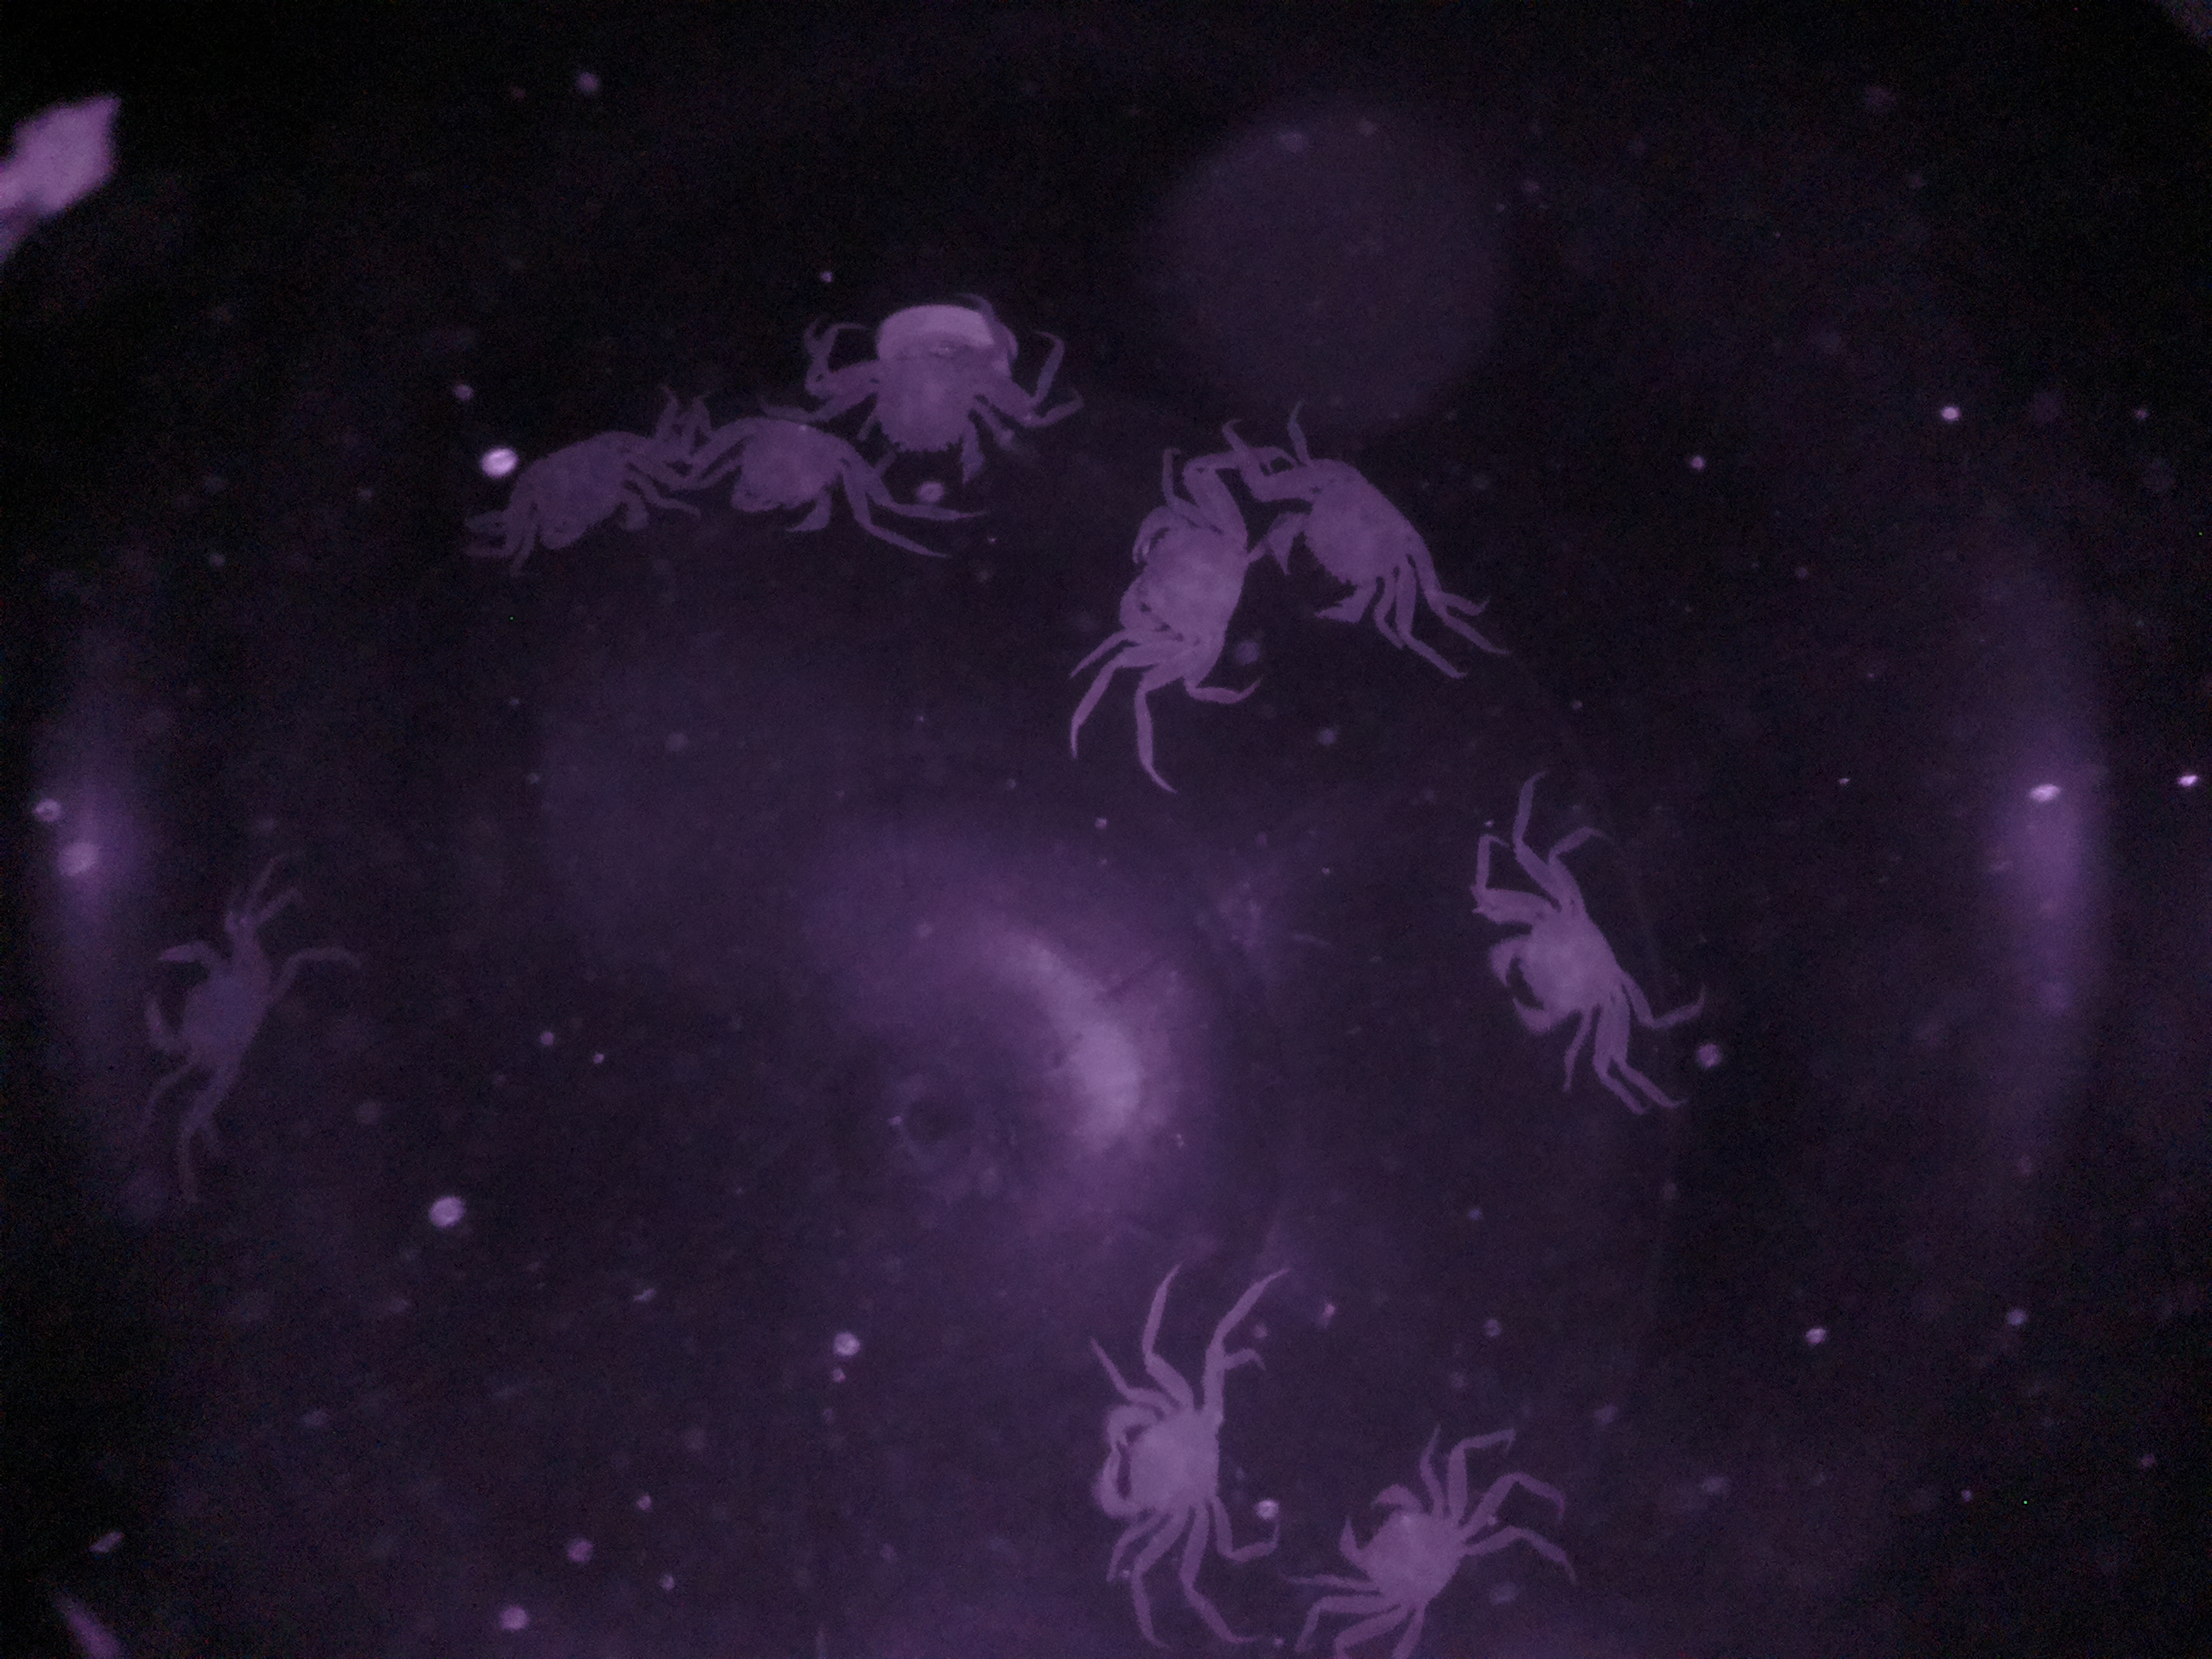Crab: (1085, 1323, 1247, 1586), (829, 296, 1031, 505), (1472, 854, 1651, 1079), (1261, 427, 1440, 652), (1305, 1446, 1493, 1638)
